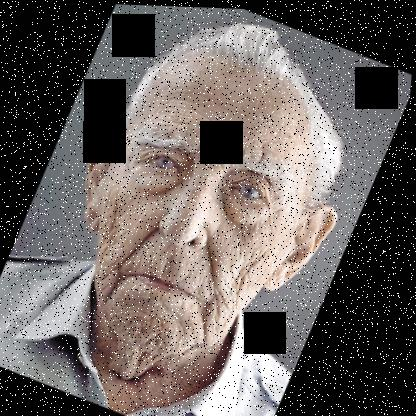Male: (24, 13, 392, 392)
